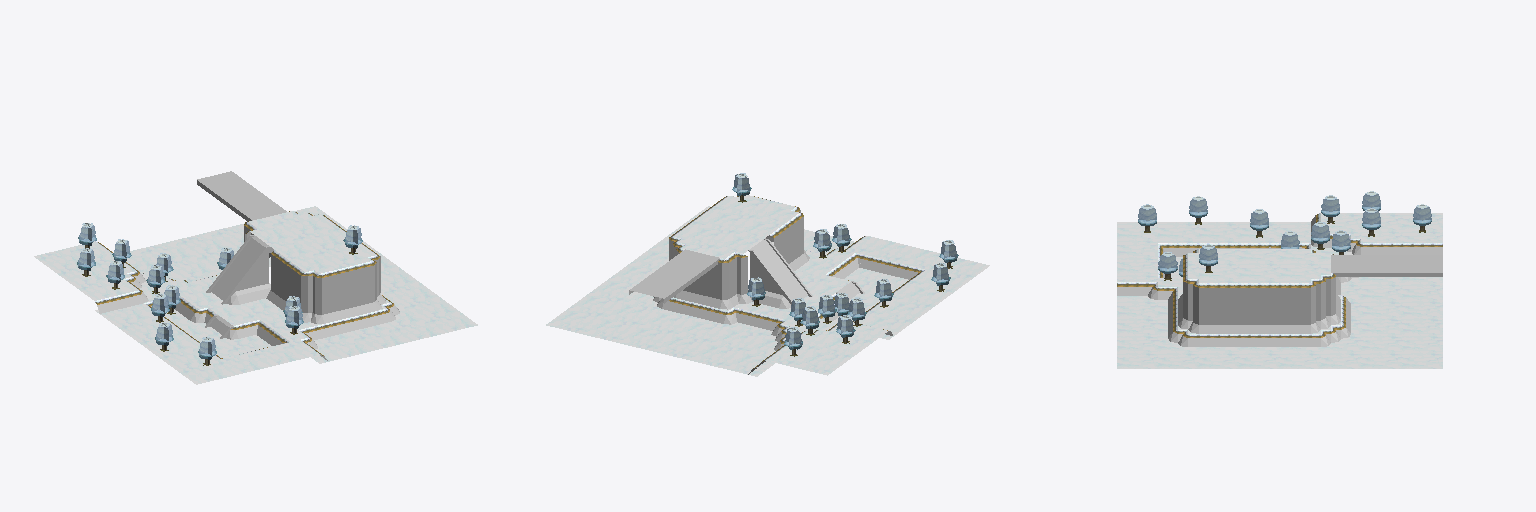
3 views of the same model, side by side, from view 1: azimuth 30°, elevation 25°; view 2: azimuth 150°, elevation 25°; view 3: azimuth 270°, elevation 25° (orthographic).
Visible parts, largest first — view 1: map.002; view 2: map.002; view 3: map.002.
Part boxes in pixels (left/top/right/bottom): map.002: left=34, top=171, right=477, bottom=384; map.002: left=546, top=173, right=989, bottom=376; map.002: left=1117, top=191, right=1442, bottom=368.
Size of the model in its own units: 32 by 9.55 by 32.
Materials: 11 (6 with a texture image).